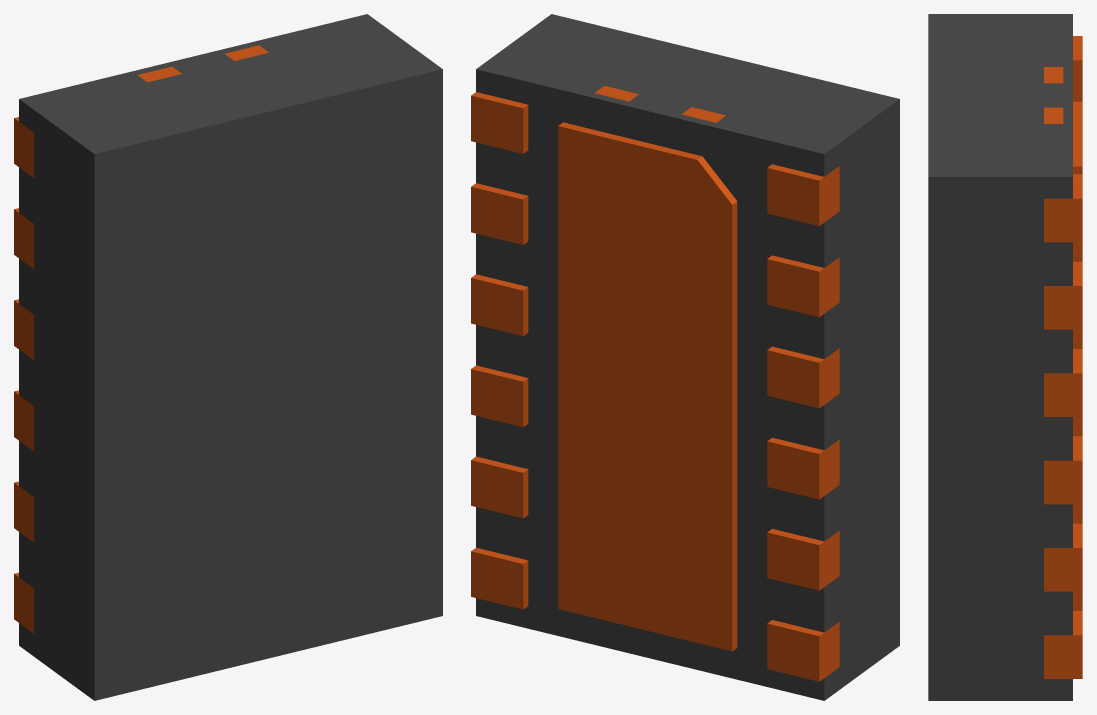
3 views of the same model, side by side, from view 1: azimuth 30°, elevation 25°; view 2: azimuth 150°, elevation 25°; view 3: azimuth 270°, elevation 25° (orthographic). The views are drawn at different scales.
Parts seen in each view (by area): view 1: BODY-SON, SOLID (×7); view 2: BODY-SON, SOLID (×13); view 3: BODY-SON, SOLID (×8).
Part boxes in pixels (x1,y1,x2,y2): BODY-SON: [19, 14, 442, 700]; SOLID (×7): [14, 45, 268, 633]; BODY-SON: [476, 14, 899, 700]; SOLID (×13): [471, 86, 839, 681]; BODY-SON: [928, 14, 1072, 700]; SOLID (×8): [1044, 36, 1082, 678].
Bounding box in the file's own units: 2 × 3 × 0.8.
